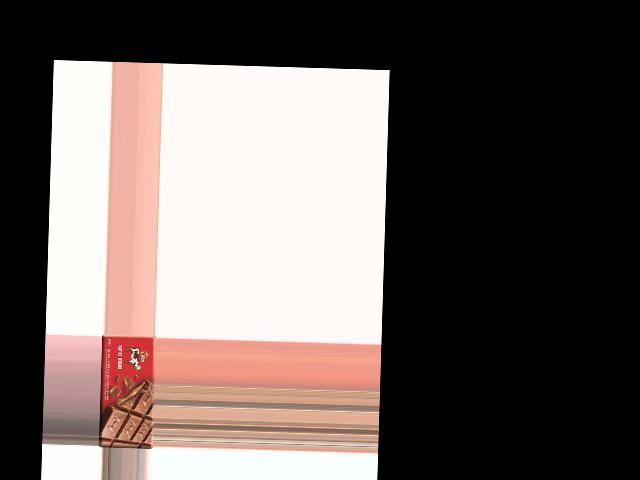chocolate: (99, 334, 156, 447)
